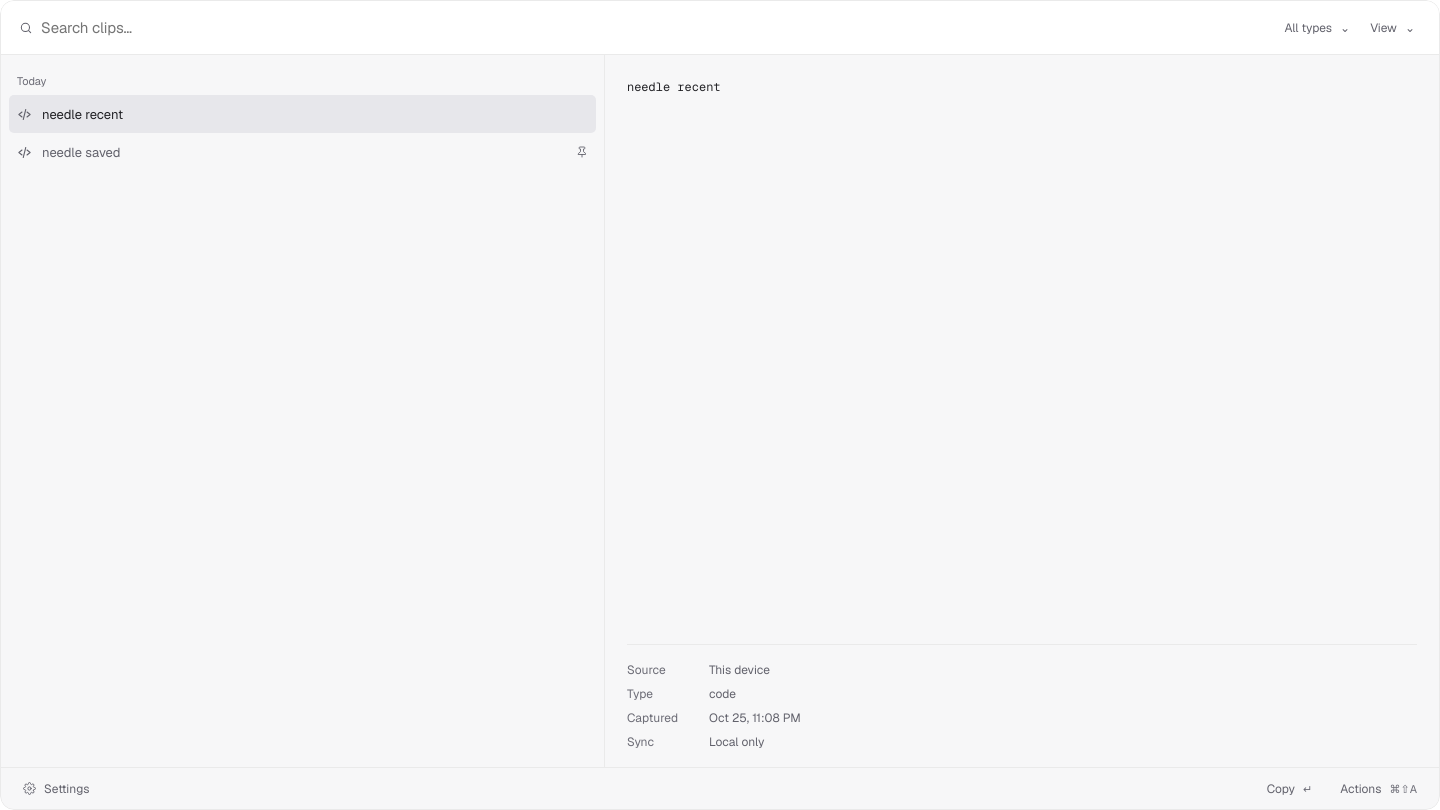
Test: App › on-demand pinned history › keeps the Devices view when Escape cancels its revoke dialog
The width and height of the screenshot is (1440, 810).
Check: the button "needle recent" is shown, box [9,95,596,133]
Press 3
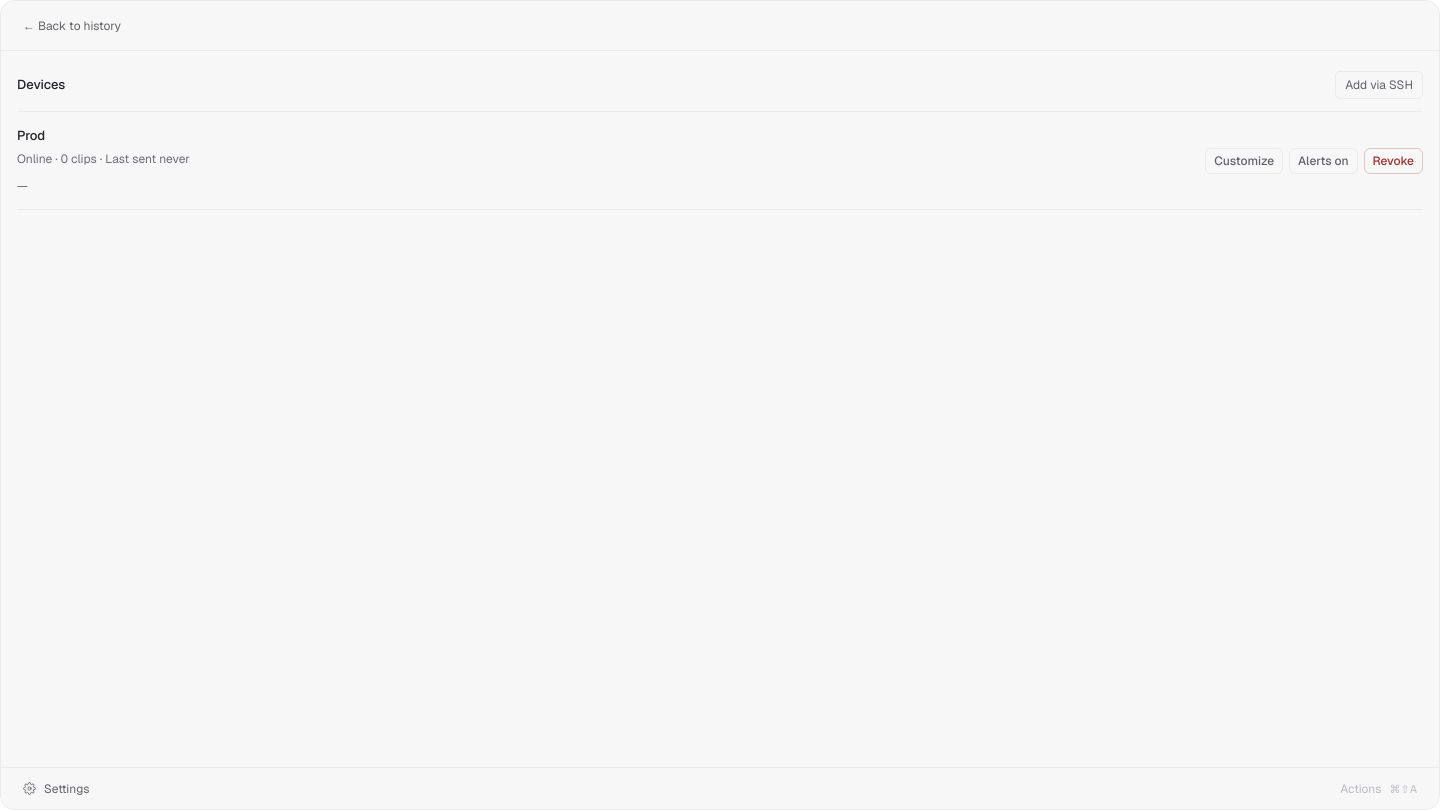
Click the button with aria-label "Customize Prod" at (1244, 161), box [1205,148,1283,174]
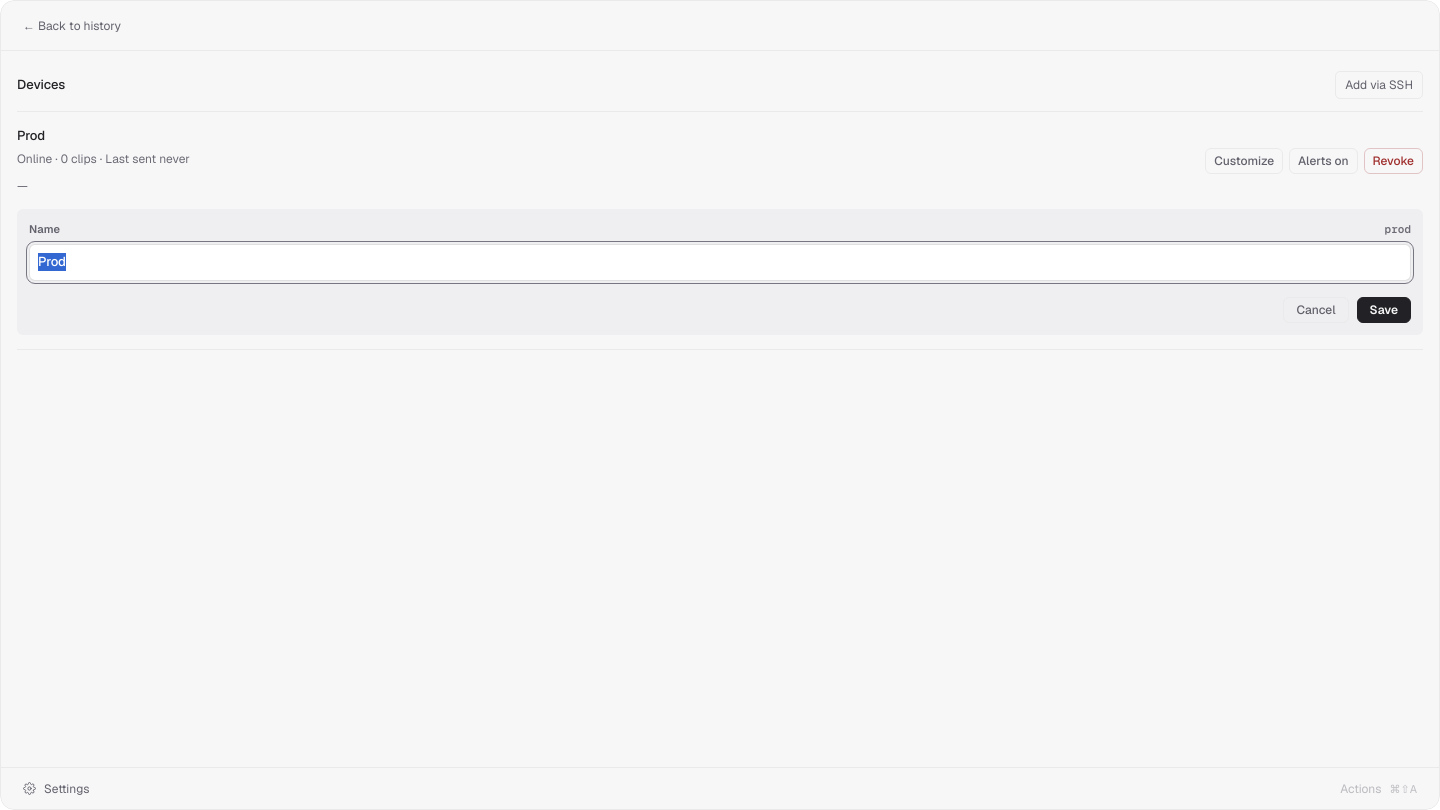
Click the button "Revoke" at (1393, 161), box [1364,148,1423,174]
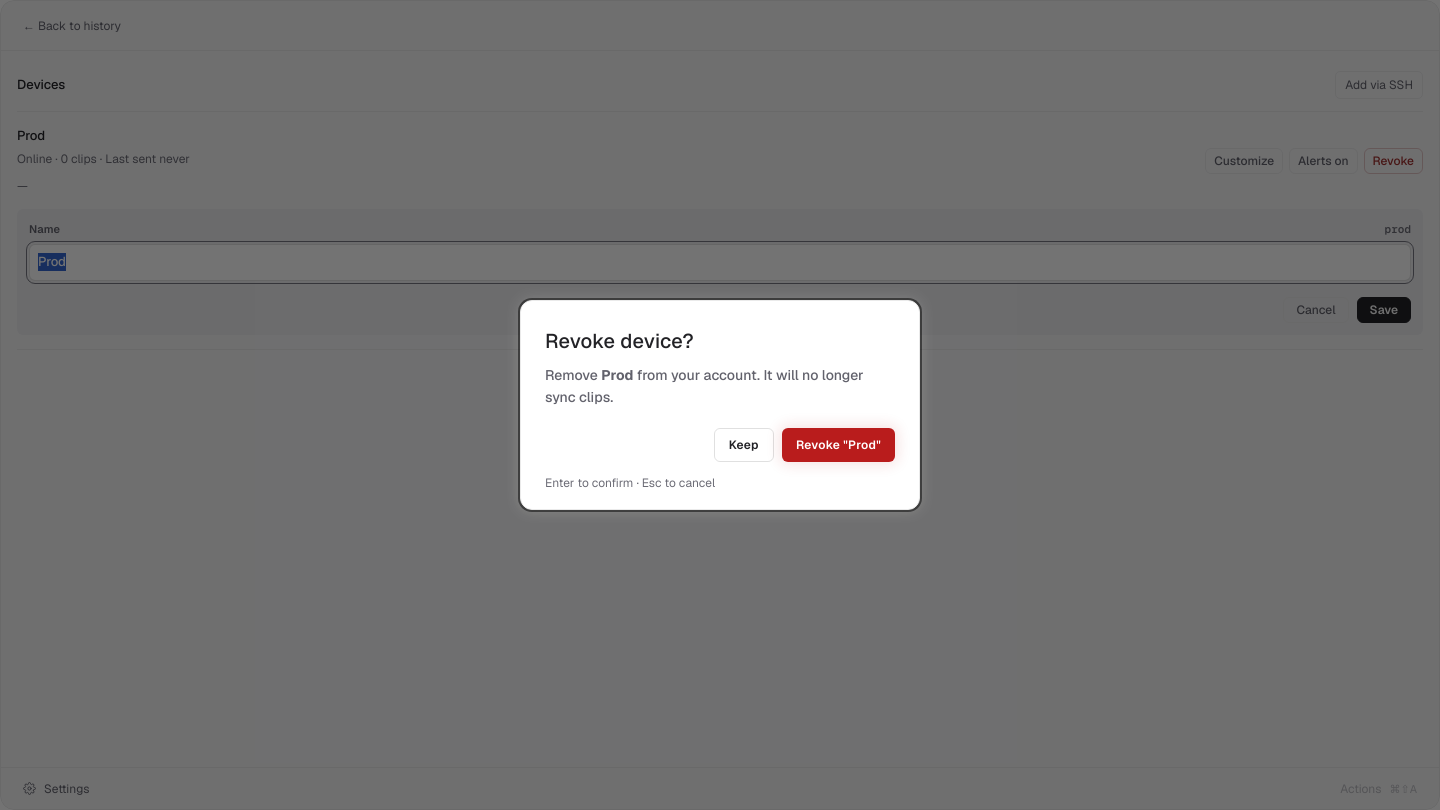
Check: the dialog "Revoke device?" is shown, box [520,300,920,510]
Press Escape
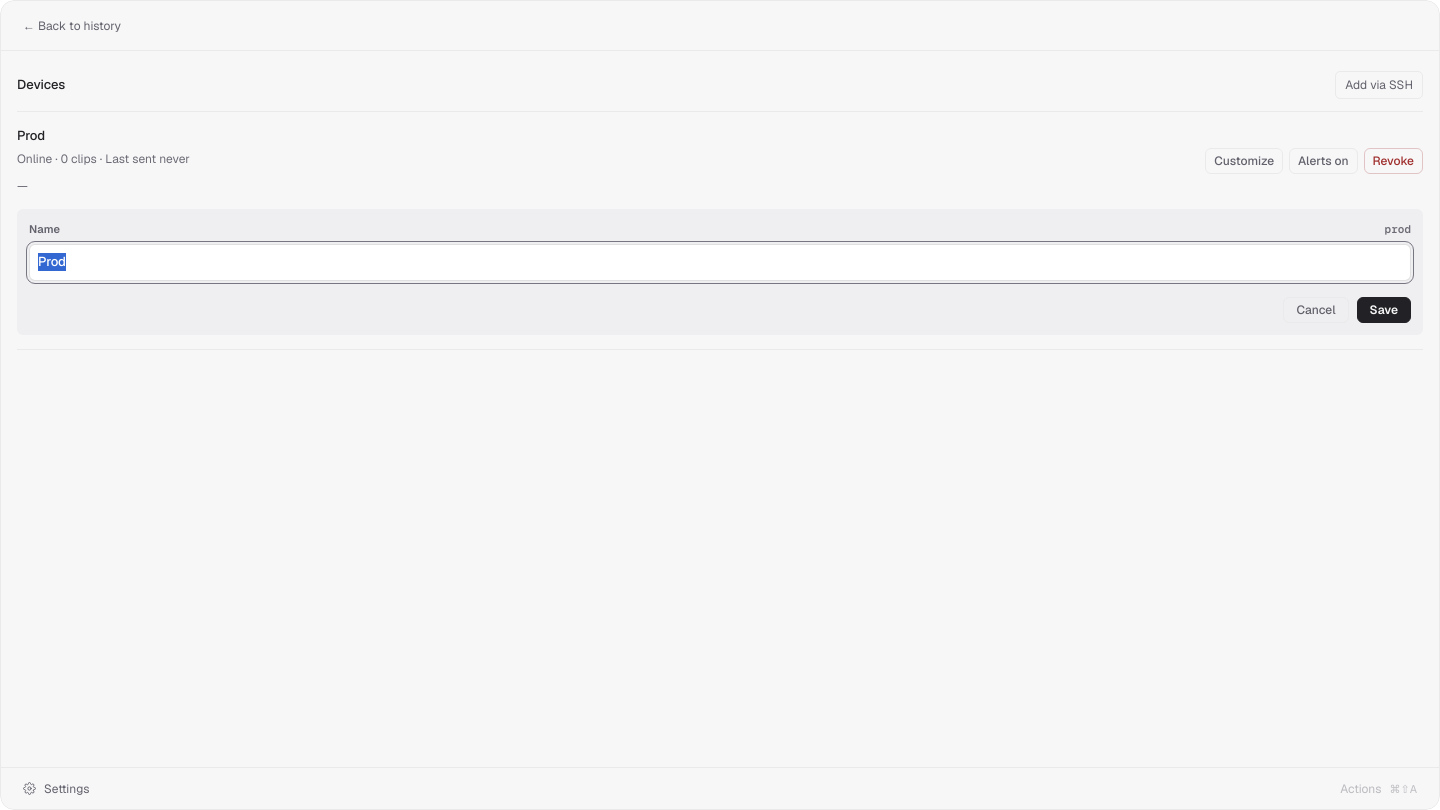
Check: the button "← Back to history" is shown, box [17,12,127,38]
Check: the dialog is gone
